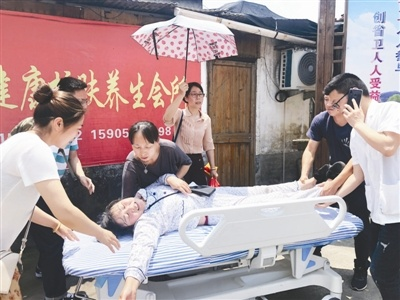falling: (89, 163, 359, 298)
